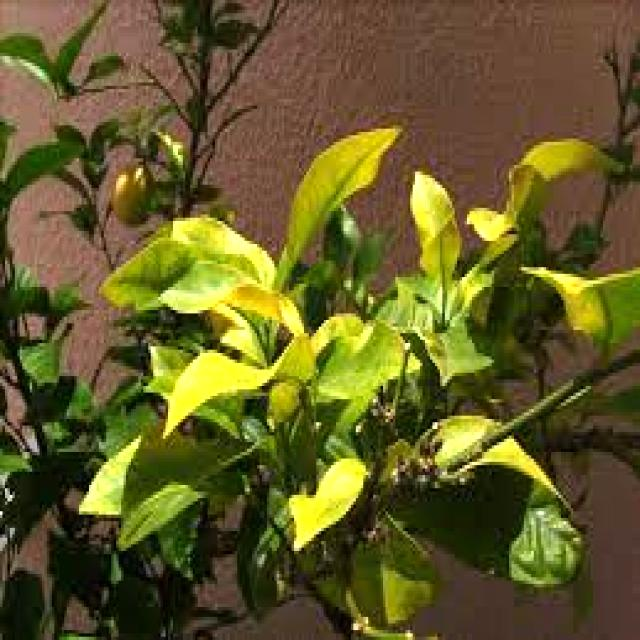yellowish leaf: (166, 108, 431, 338), (154, 300, 340, 452), (472, 142, 628, 245), (527, 261, 640, 368), (430, 427, 577, 489), (286, 457, 372, 552), (412, 413, 493, 477)
